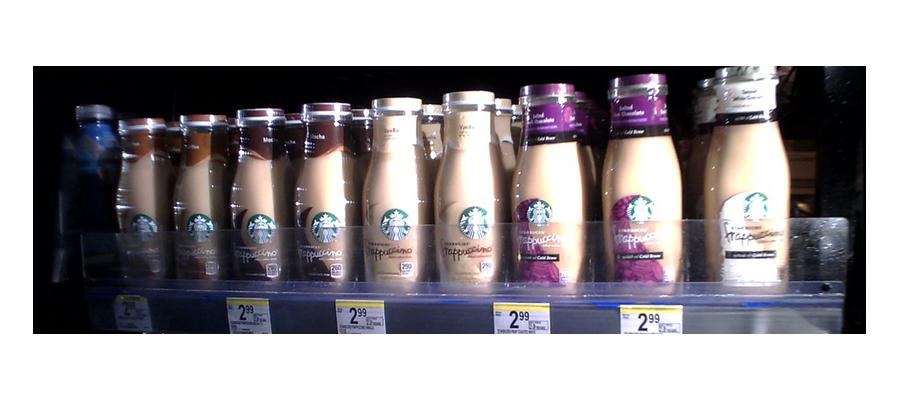bottle: (703, 62, 797, 296), (601, 67, 691, 293), (510, 76, 594, 295), (434, 88, 506, 292), (359, 96, 429, 293), (287, 97, 356, 290), (227, 104, 285, 290), (116, 114, 174, 299), (172, 109, 228, 284)
